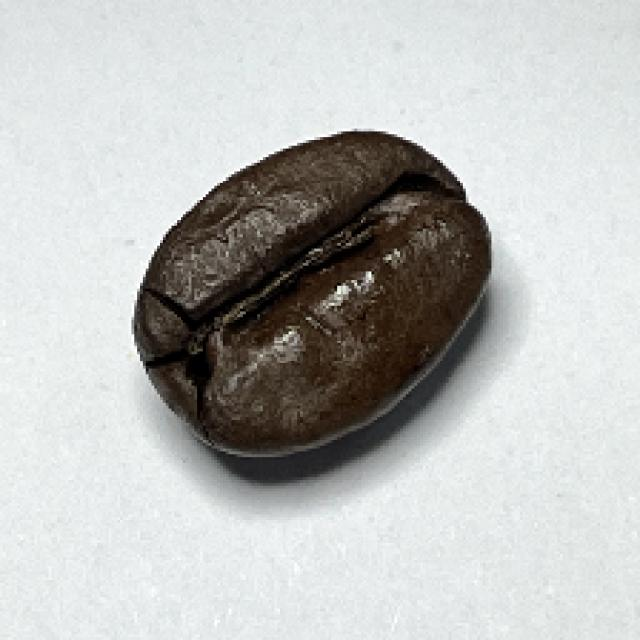bean: (129, 129, 494, 461)
